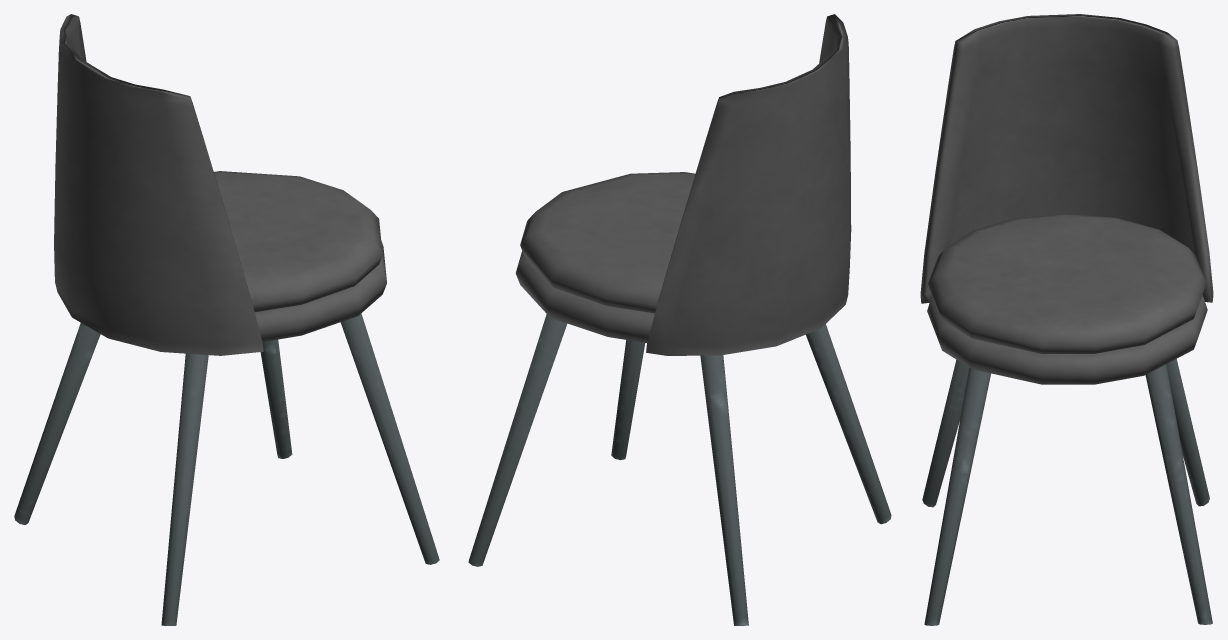
File: chair2.fbx
3 renders of one model, left to right at view 1: azimuth 30°, elevation 25°; view 2: azimuth 150°, elevation 25°; view 3: azimuth 270°, elevation 25°, orthographic. The views are drawn at different scales.
Visible parts, largest first — view 1: Cylinder.001; view 2: Cylinder.001; view 3: Cylinder.001.
Part boxes in pixels (x1=…): Cylinder.001: x1=14, y1=14, x2=439, y2=625; Cylinder.001: x1=468, y1=14, x2=891, y2=625; Cylinder.001: x1=920, y1=14, x2=1213, y2=625.
Size of the model in its own units: 0.5846 by 0.9755 by 0.5353.
Materials: 1 (1 with a texture image).
